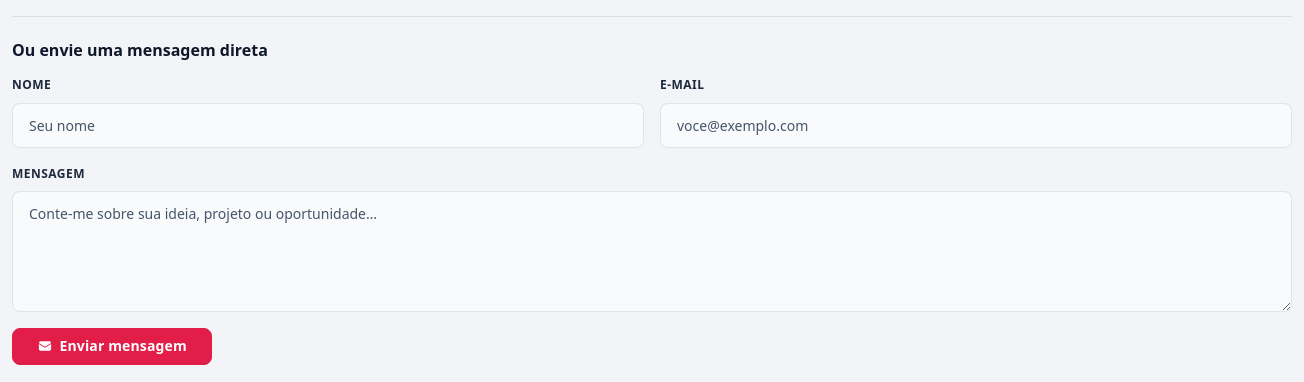
Test case: ContactForm › envia dados válidos e exibe sucesso
Type "Maria Silva" into the field labelled "Nome" at point(328, 125), box [12,103,644,148]
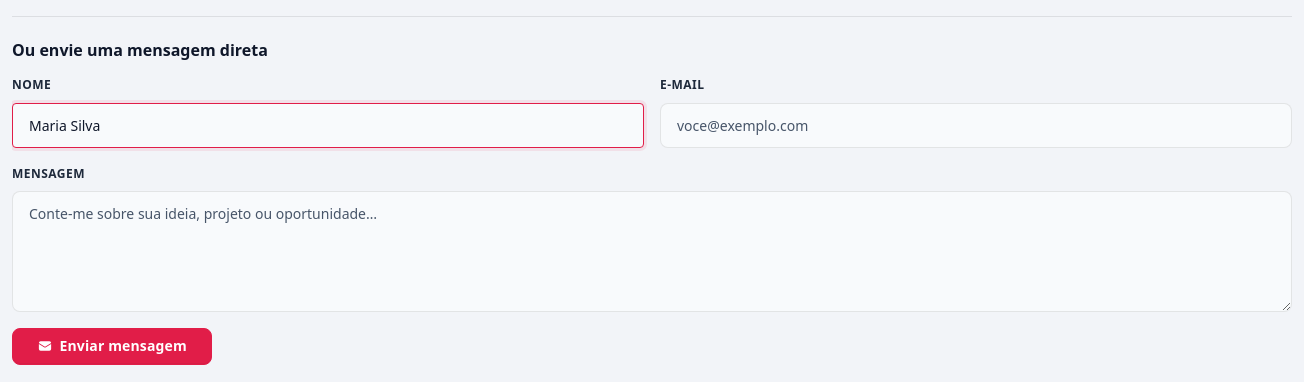
Type "maria@exemplo.com" into the field labelled "E-mail" at point(976, 125), box [660,103,1292,148]
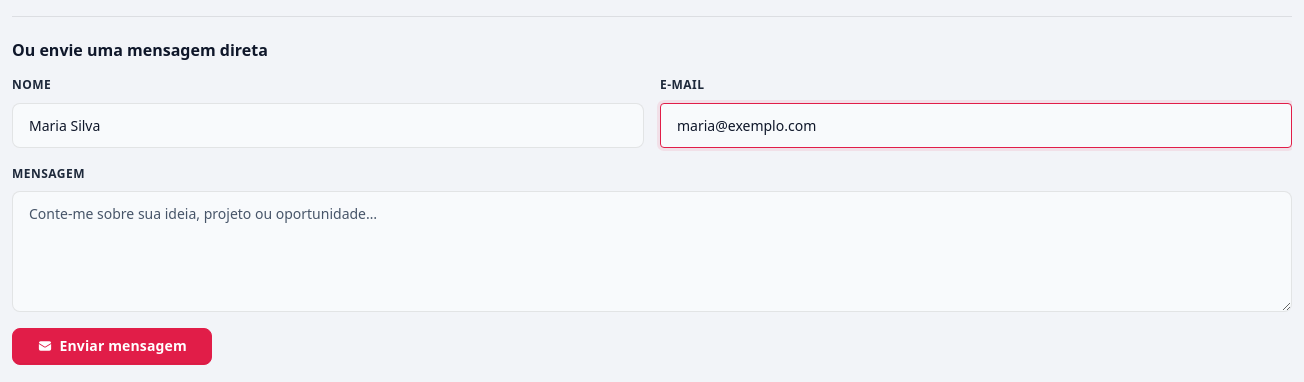
Type "Olá! Tenho uma proposta de projeto para você." into the text box labelled "Mensagem" at point(652, 251), box [12,191,1292,312]
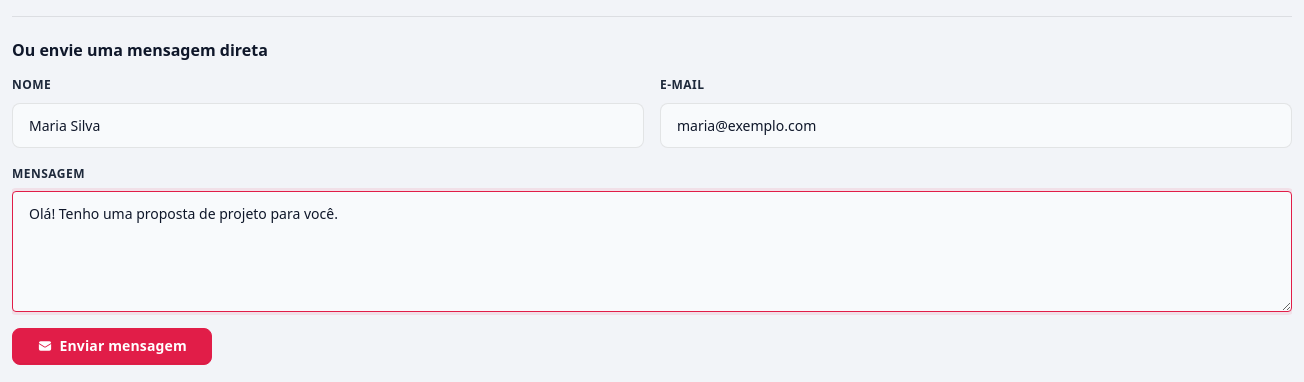
Click the button "Enviar mensagem" at point(112, 346), box [12,328,212,365]
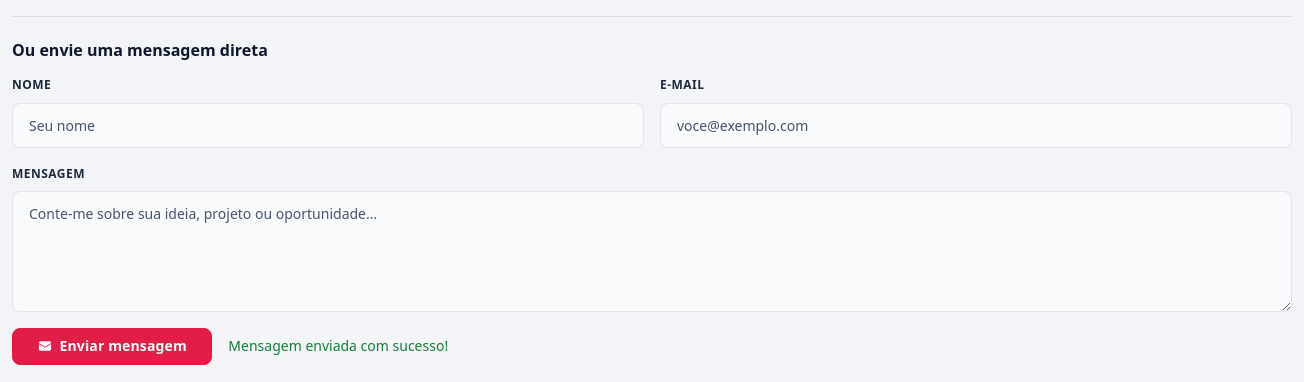
Result: the text "Mensagem enviada com sucesso!" is shown at [228,335,448,358]
